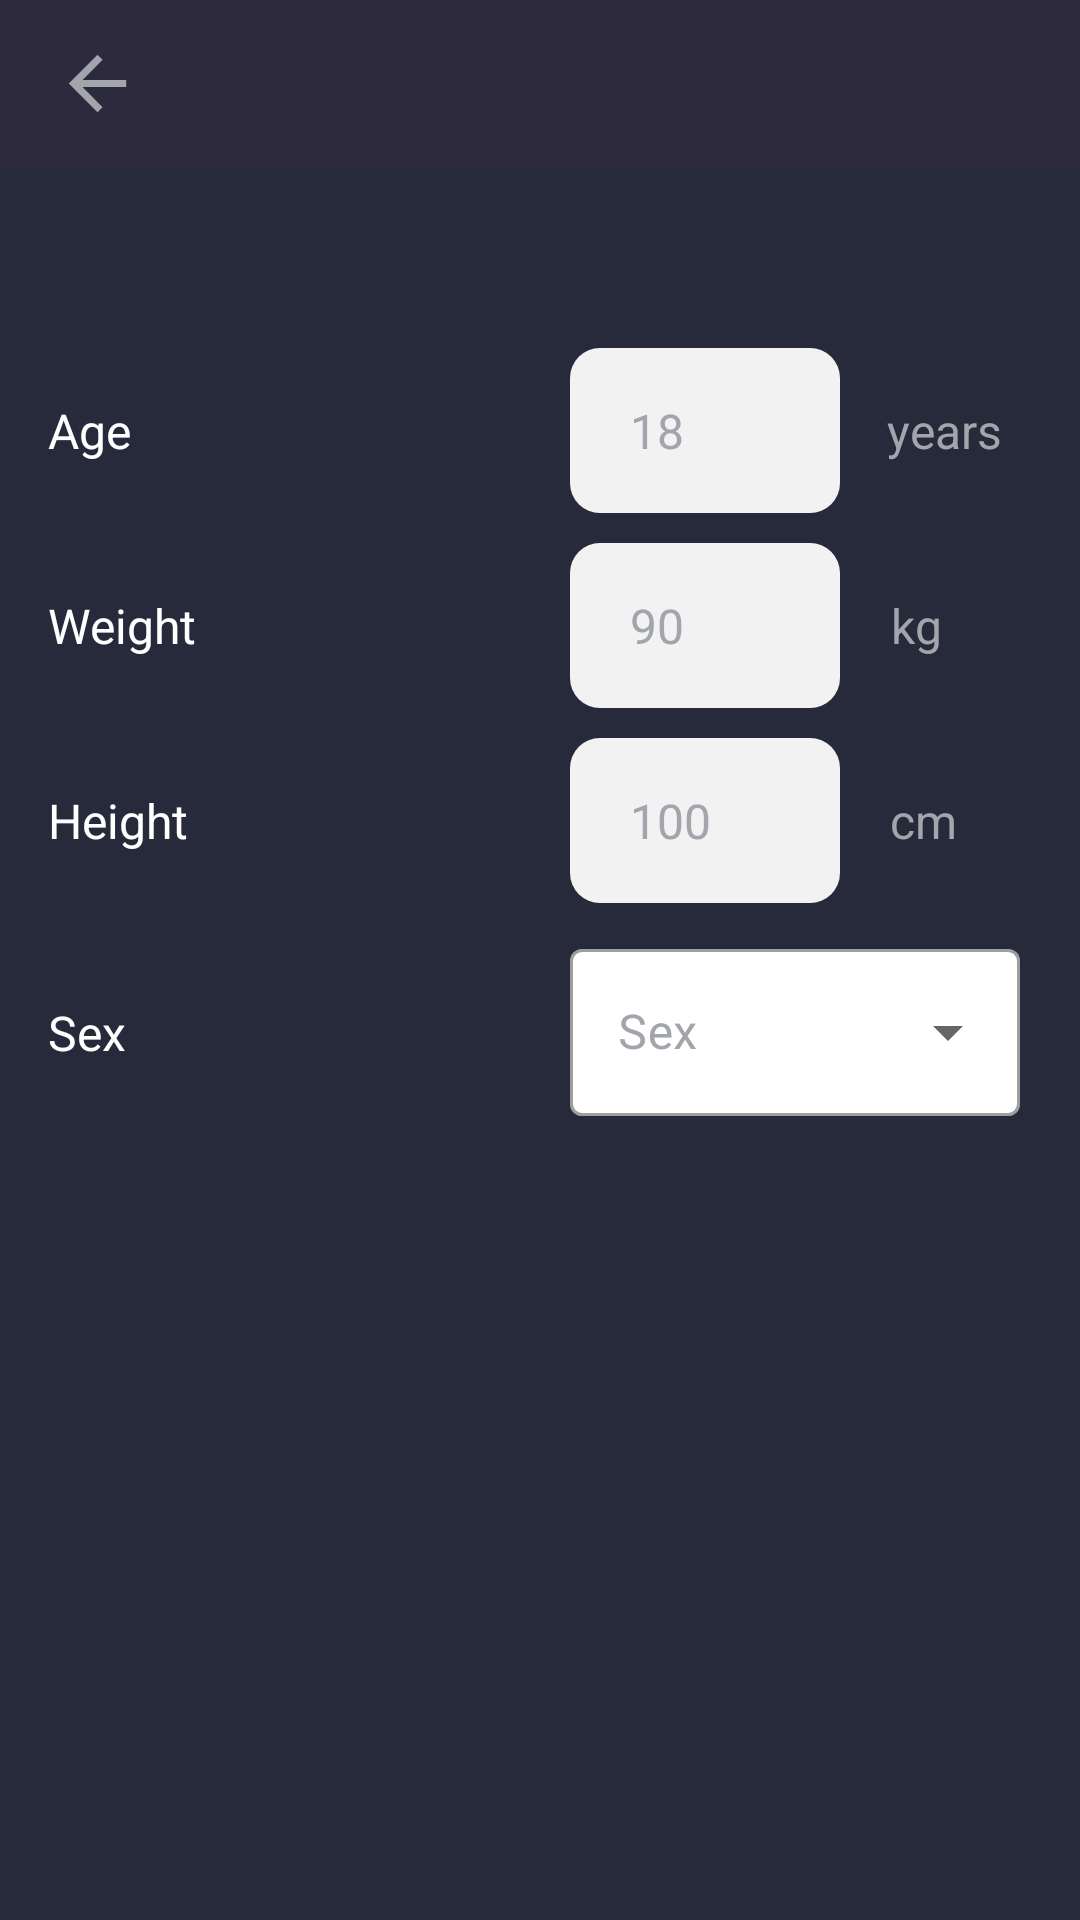

Where icons sit on this 1080px×1920px app screen, as (x1=x1, y1=y1, x2=x2, y2=y2):
left arrow: (x1=69, y1=55, x2=127, y2=112)
